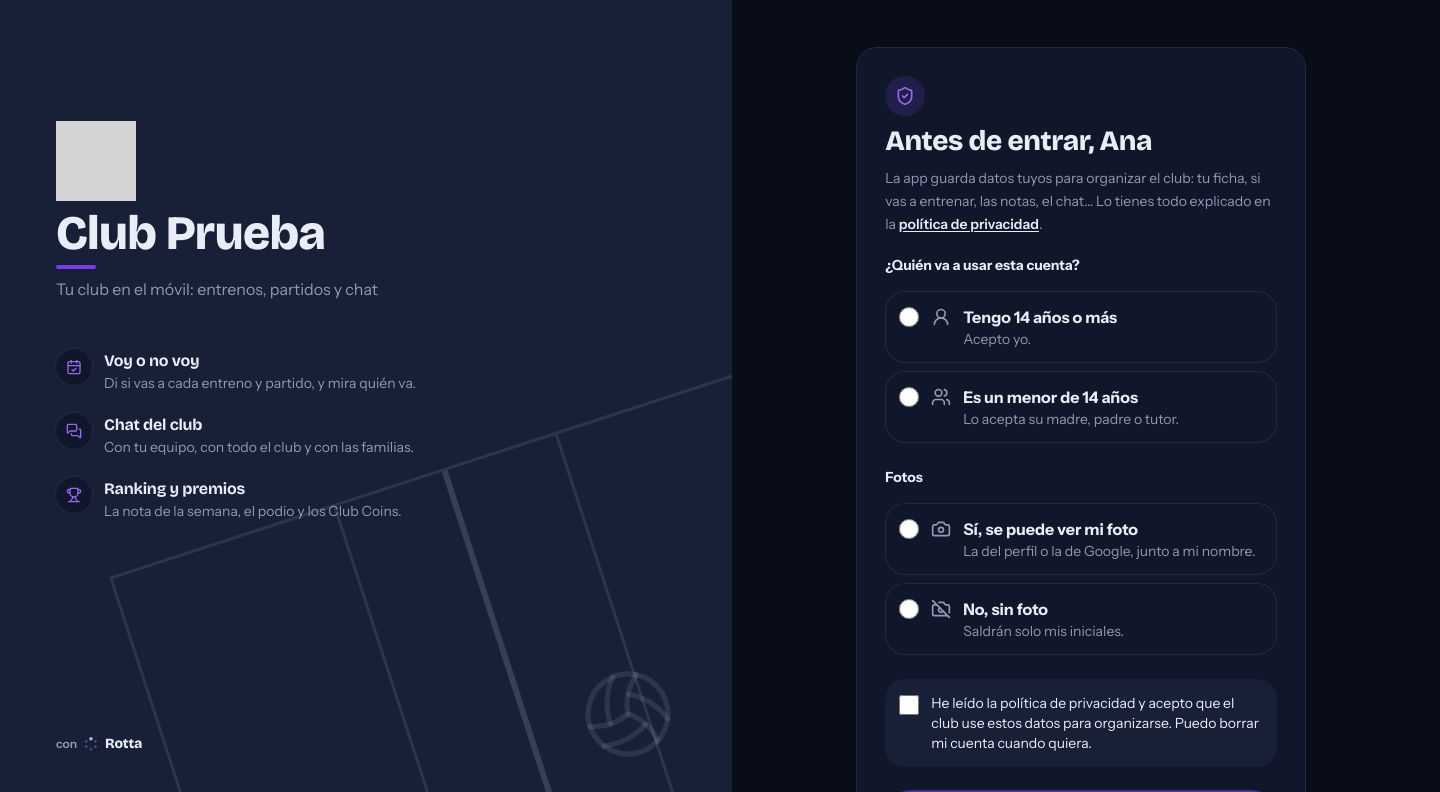
ConsentPage › no se puede aceptar hasta elegir edad, fotos y marcar la política
The width and height of the screenshot is (1440, 792).
Click the radio button labelled "Tengo 14 años o más Acepto yo." at (909, 317), box [899,307,919,327]
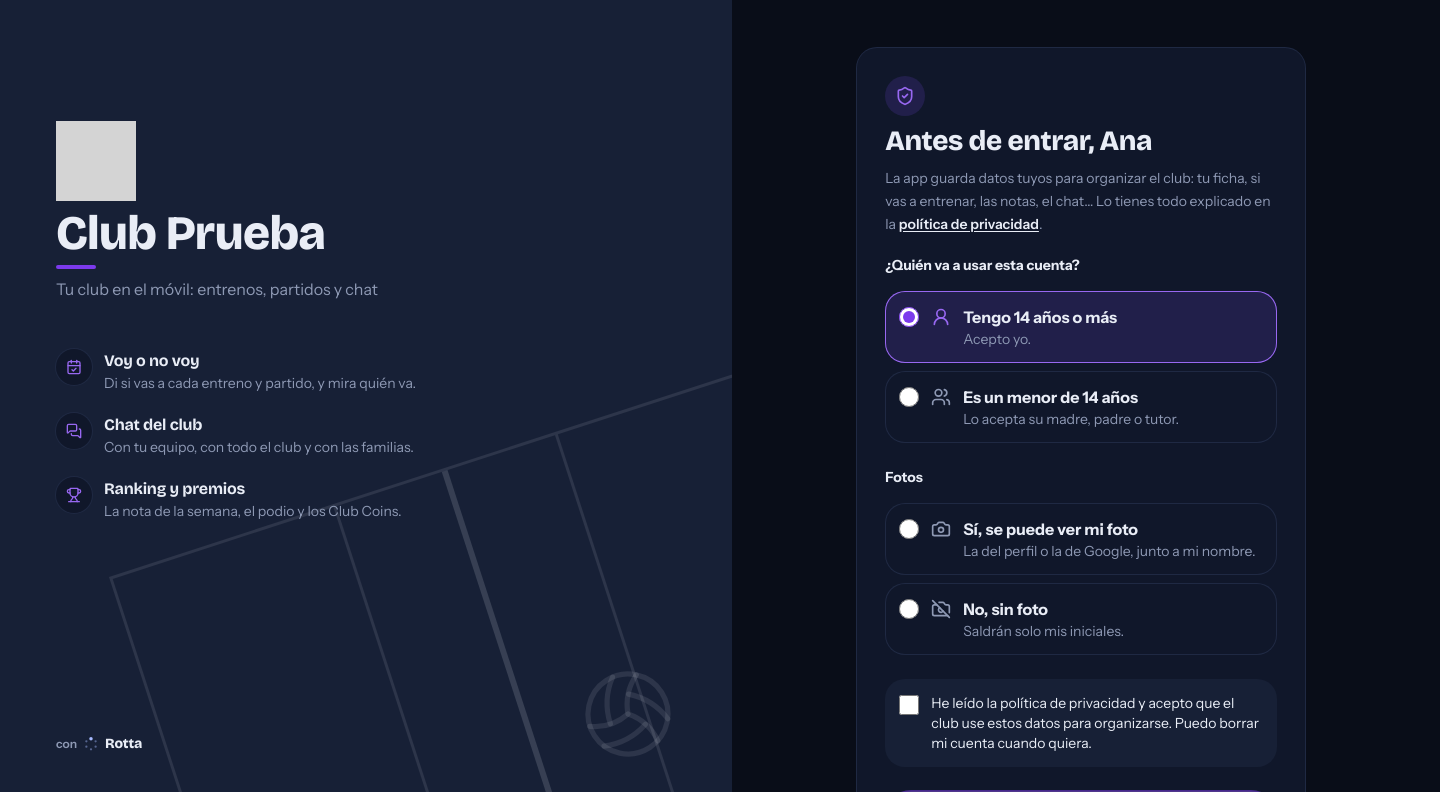
Click the radio button labelled "No, sin foto Saldrán solo mis iniciales." at (909, 609), box [899,599,919,619]
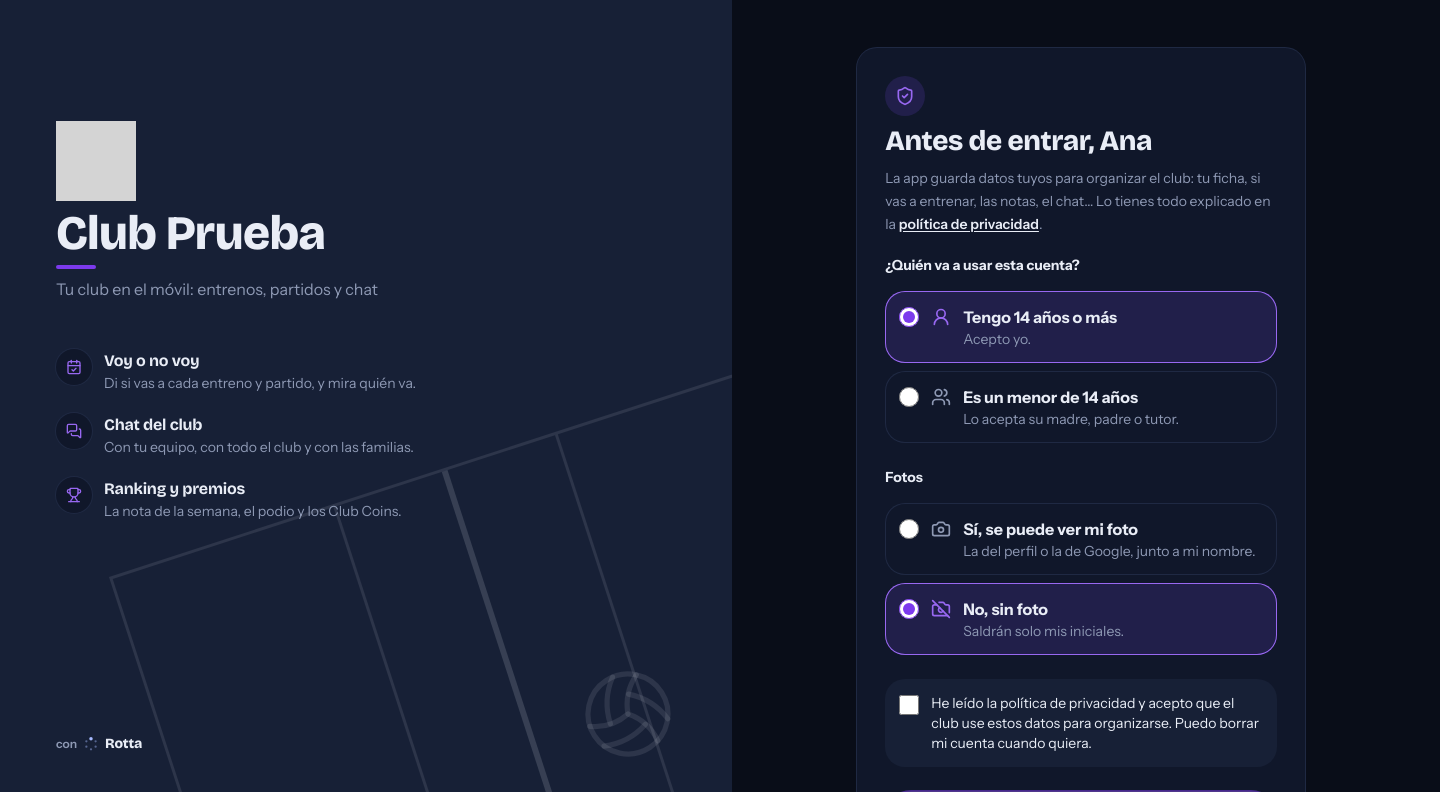
Click the checkbox at (909, 705), box [899,695,919,715]
(page scrolled)
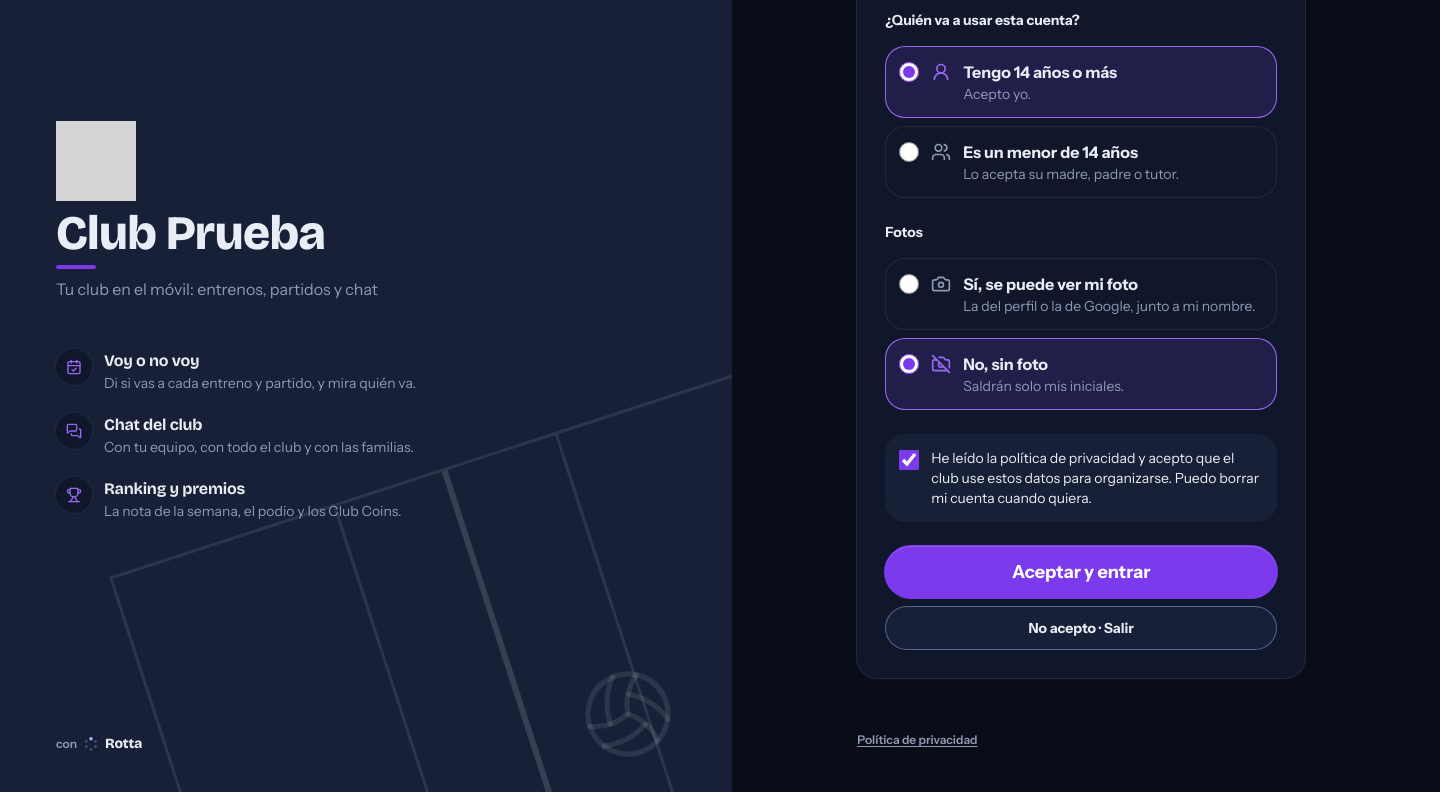
Expected: the button "Aceptar y entrar" is enabled, [885,546,1277,598]
